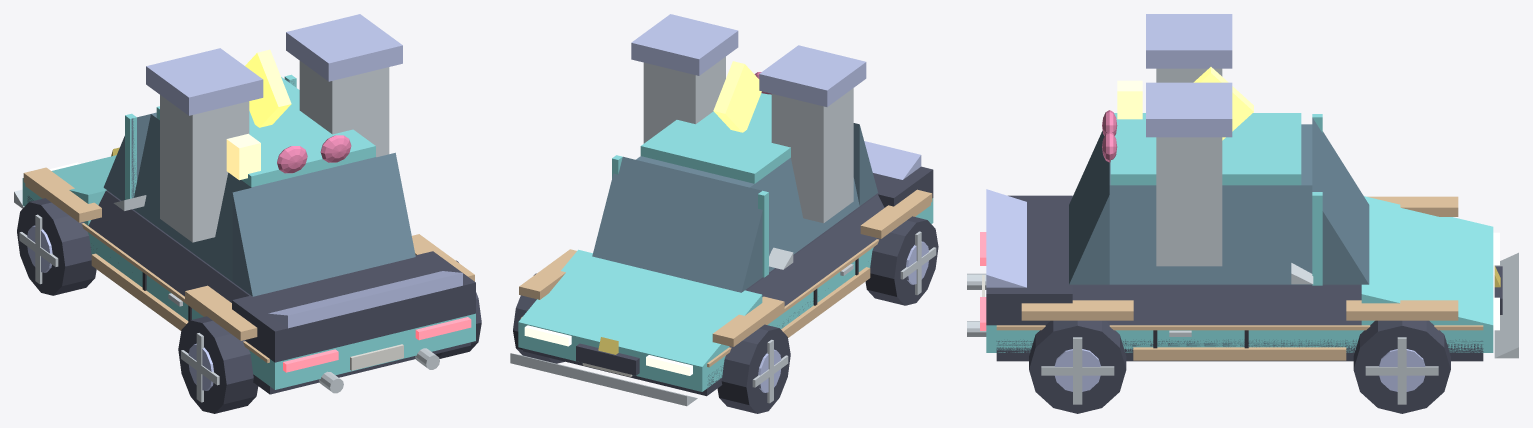
The model's file is castle_cruiser.glb.
3 renders of one model, left to right at view 1: azimuth 30°, elevation 25°; view 2: azimuth 150°, elevation 25°; view 3: azimuth 270°, elevation 25°, orthographic. The views are drawn at different scales.
Visible parts, largest first — view 1: RearWindow.231, Tail.135, CastleTower-1.002, Body.331, CastleTower1.002, ShoulderL.128, Battlement-1.002, Battlement1.002, Roof.331, Wheel_FL.271, Wheel_RL.271, CabinSideL.128 (+22 smaller); view 2: Windshield.231, Nose.128, CastleTower-1.002, Roof.331, ShoulderL.128, Body.331, Battlement-1.002, Battlement1.002, CastleTower1.002, Wheel_FL.271, Wheel_RL.271, CabinSideL.128 (+20 smaller); view 3: CabinSideR.128, Nose.128, ShoulderR.128, CastleTower1.002, Roof.331, Tail.135, Body.331, Windshield.231, Wheel_FR.271, Wheel_RR.271, RearWindow.231, Battlement1.002 (+21 smaller).
Part boxes in pixels (x1,y1,x2,y2): RearWindow.231: (232,152,415,296); Tail.135: (232,251,475,362); CastleTower-1.002: (160,95,249,242); Body.331: (22,178,475,389); CastleTower1.002: (299,61,389,157); ShoulderL.128: (88,191,248,302); Battlement-1.002: (146,48,263,115); Battlement1.002: (286,14,402,81); Roof.331: (156,77,375,187); Wheel_FL.271: (17,198,96,295); Wheel_RL.271: (178,316,258,413); CabinSideL.128: (133,114,251,281); Windshield.231: (592,156,762,292); Nose.128: (518,249,762,366); CastleTower-1.002: (771,88,853,223); Roof.331: (640,93,790,183); ShoulderL.128: (747,194,884,306); Body.331: (518,198,933,391); Battlement-1.002: (759,45,866,106); Battlement1.002: (631,14,738,75); CastleTower1.002: (643,56,725,143); Wheel_FL.271: (717,324,790,413); Wheel_RL.271: (865,216,938,305); CabinSideL.128: (750,157,859,272); CabinSideR.128: (1109,185,1312,284); Nose.128: (1361,196,1493,325); ShoulderR.128: (1072,285,1361,325); CastleTower1.002: (1156,137,1222,266); Roof.331: (1110,113,1301,185); Tail.135: (986,195,1072,325); Body.331: (986,325,1493,352); Windshield.231: (1312,117,1369,284); Wheel_FR.271: (1353,320,1450,413); Wheel_RR.271: (1029,320,1126,413); RearWindow.231: (1069,131,1109,284); Battlement1.002: (1146,82,1232,137).
Bounding box in the file's own units: 3 × 3.1 × 5.44.
